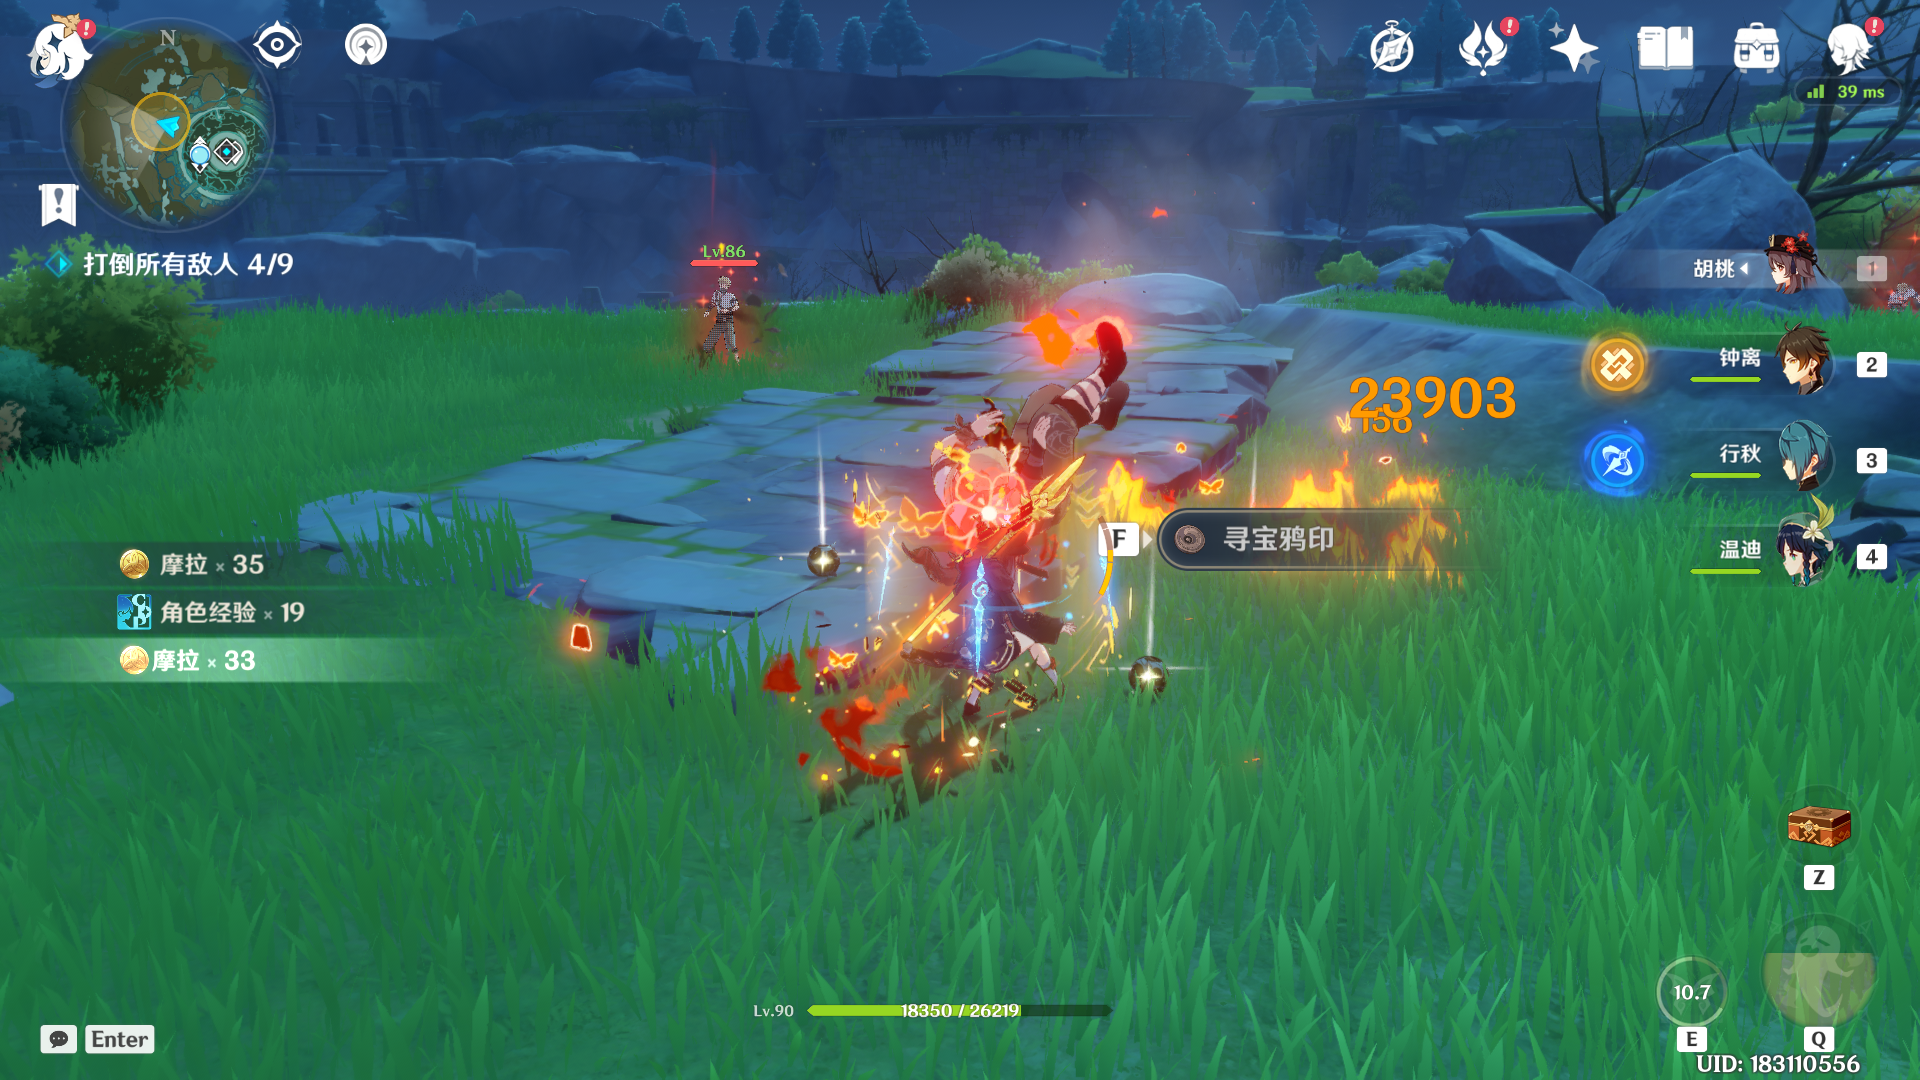robber: (877, 289, 1168, 605), (669, 256, 775, 389)
